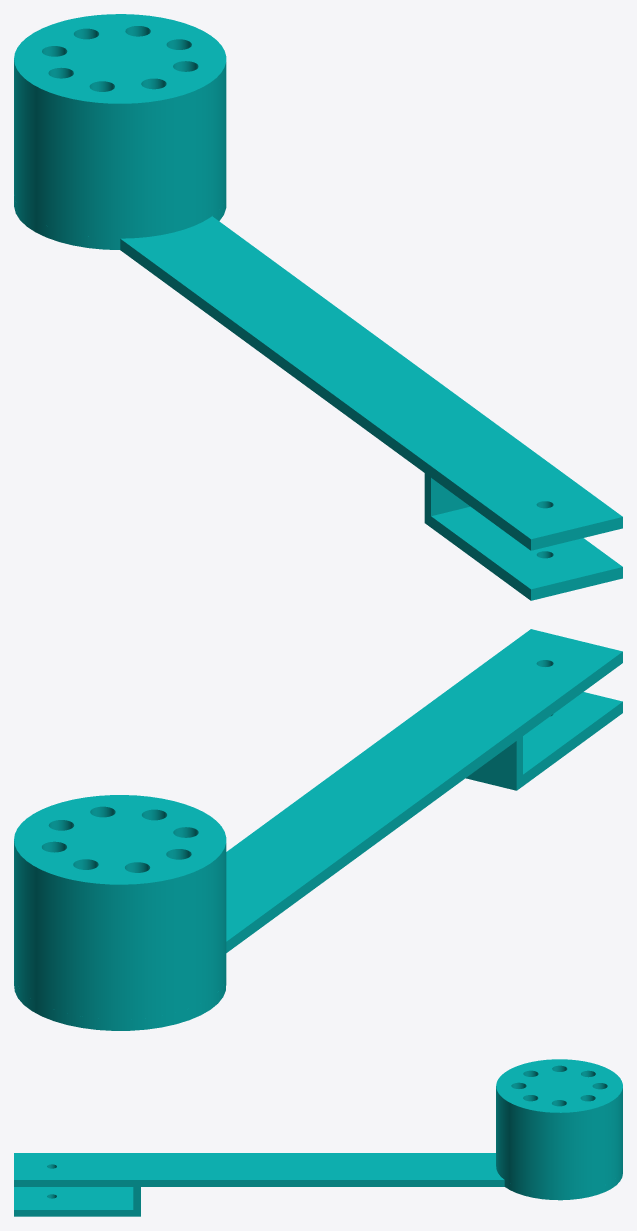
File: crank.glb
3 renders of one model, top to bottom at view 1: azimuth 30°, elevation 25°; view 2: azimuth 150°, elevation 25°; view 3: azimuth 270°, elevation 25°, orthographic. The views are drawn at different scales.
Visible parts, largest first — view 1: plaquita_crank-2, plaquita_crank2-1; view 2: plaquita_crank-2, plaquita_crank2-1; view 3: plaquita_crank-2, plaquita_crank2-1.
Boxes of the visible parts, bbox=[...] form: plaquita_crank-2: bbox=[14, 195, 622, 600]; plaquita_crank2-1: bbox=[14, 14, 226, 238]; plaquita_crank-2: bbox=[14, 629, 622, 1030]; plaquita_crank2-1: bbox=[14, 795, 226, 1019]; plaquita_crank-2: bbox=[14, 1153, 622, 1216]; plaquita_crank2-1: bbox=[496, 1059, 622, 1193].
Size of the model in its own units: 0.05 by 0.051 by 0.24.
